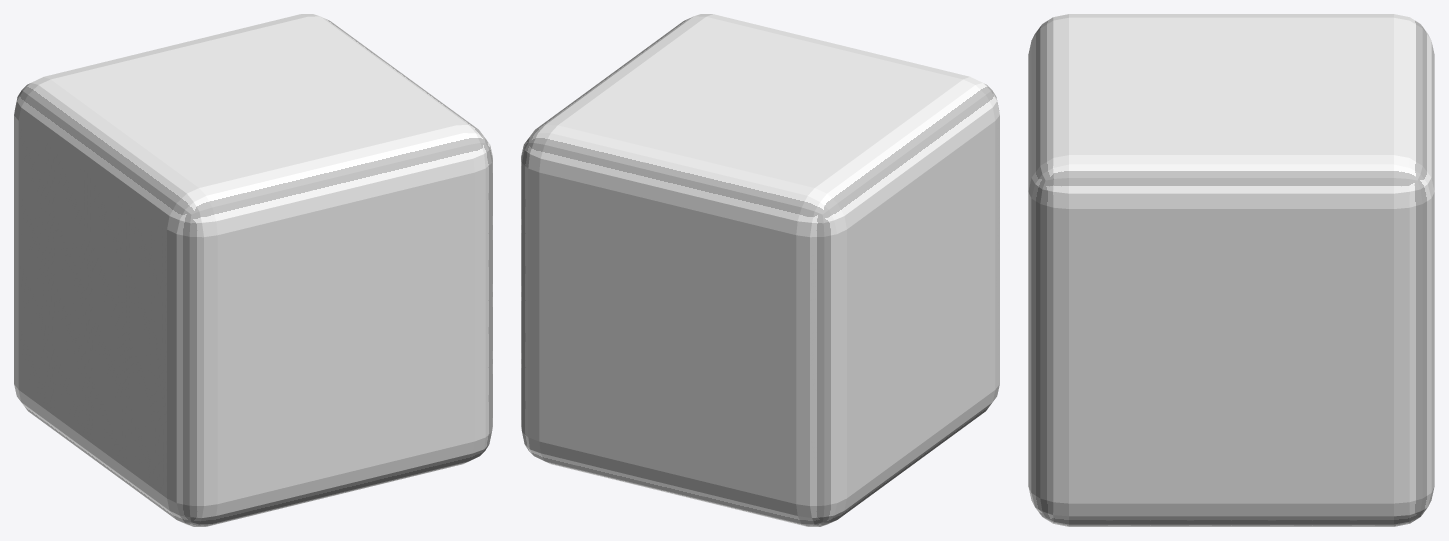
Rendered from Tile_03.fbx.
3 renders of one model, left to right at view 1: azimuth 30°, elevation 25°; view 2: azimuth 150°, elevation 25°; view 3: azimuth 270°, elevation 25°, orthographic. The views are drawn at different scales.
Visible parts, largest first — view 1: Tile_01; view 2: Tile_01; view 3: Tile_01.
Boxes of the visible parts, x1=… form: Tile_01: x1=14, y1=14, x2=492, y2=526; Tile_01: x1=521, y1=14, x2=999, y2=526; Tile_01: x1=1028, y1=14, x2=1434, y2=526.
Bounding box in the file's own units: 100 × 100 × 100.
